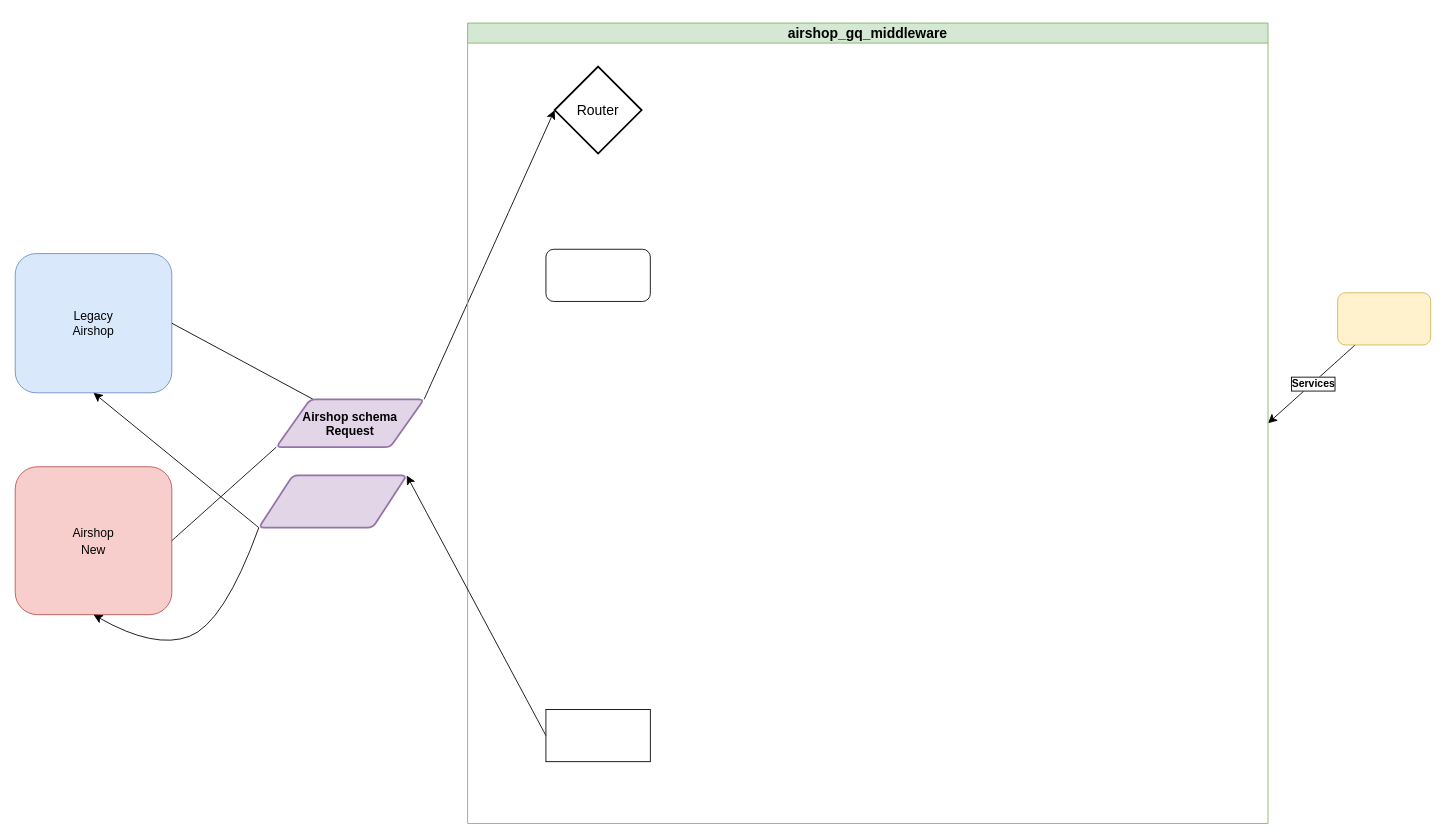
The diagram is 1446 pixels wide and 839 high, and some of its shapes have lost their labels. The centre of each missing label's shape, as x and y in pixels:
Airshop schema Response: point (332, 501)
Response: point (597, 735)
SkyExpress: point (1384, 318)
